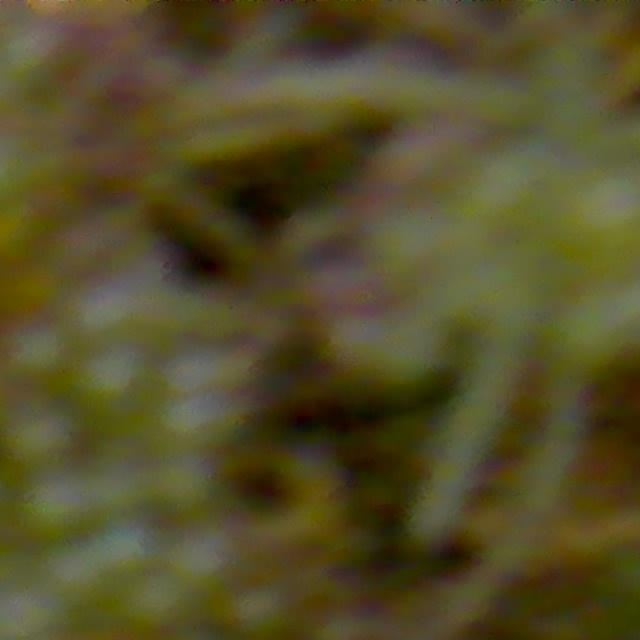SeaGrape: (75, 342, 151, 413), (5, 398, 80, 469), (18, 471, 92, 541), (169, 523, 239, 593), (123, 570, 190, 633), (93, 521, 155, 579), (153, 458, 213, 517)
